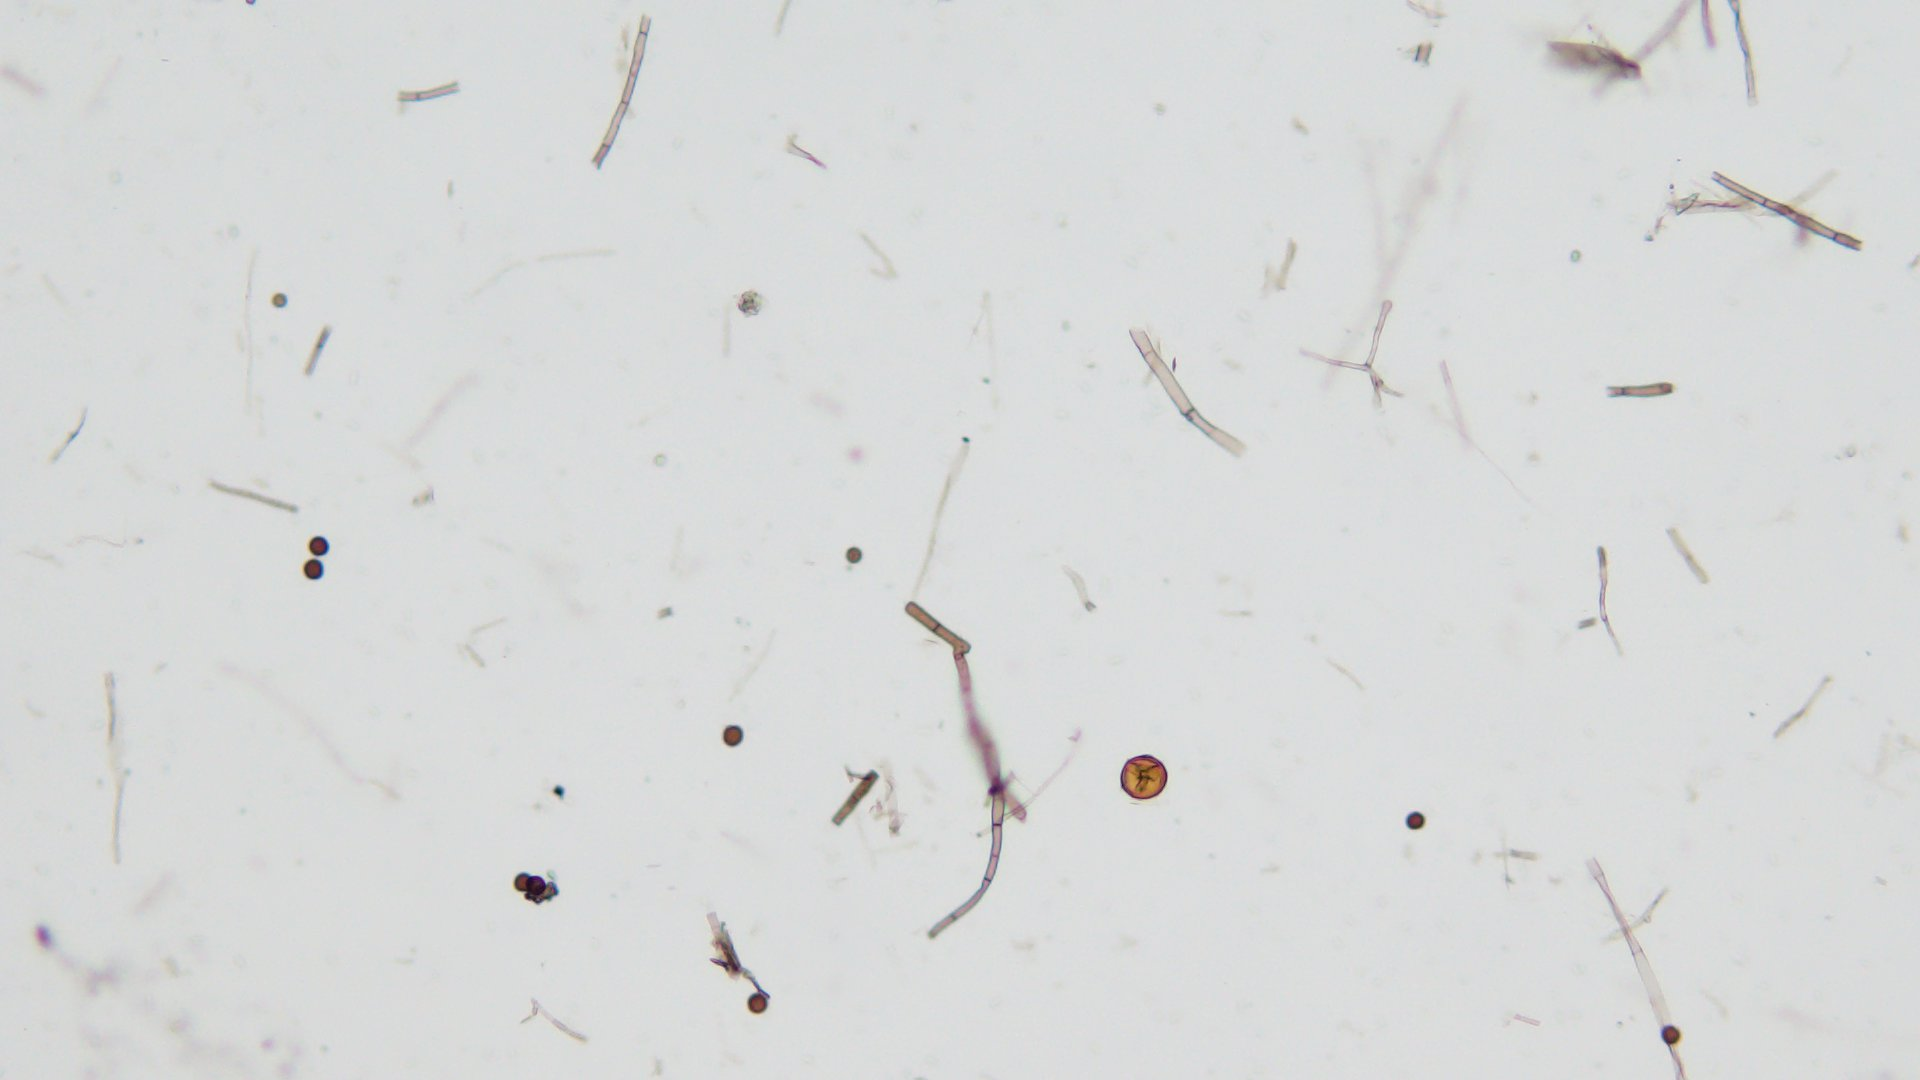shs_spore: (745, 992, 770, 1014), (303, 560, 326, 583), (1660, 1022, 1680, 1046), (309, 535, 328, 556), (723, 727, 744, 746), (526, 878, 546, 898), (1406, 811, 1423, 829)
xb_spore: (1121, 753, 1168, 804)
